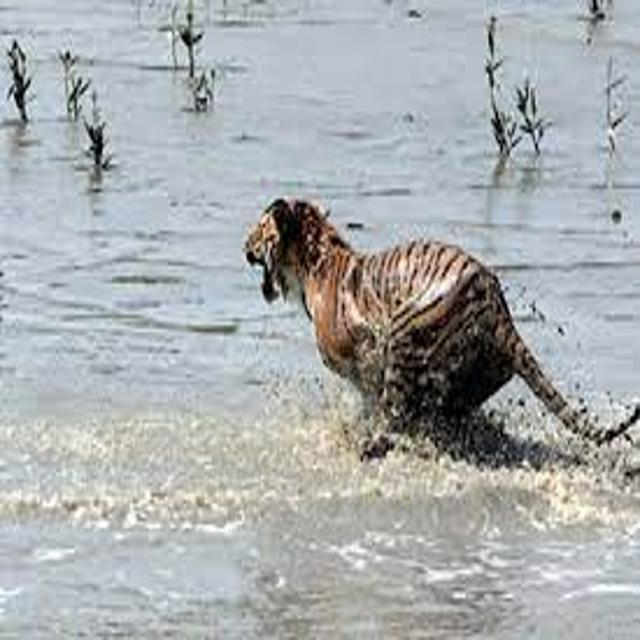Tiger: (217, 177, 625, 513)
